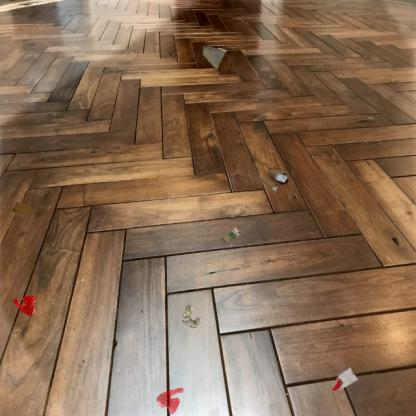dirty: (258, 165, 290, 194), (329, 366, 358, 392), (179, 303, 203, 331), (201, 44, 227, 69), (9, 200, 37, 219), (219, 226, 242, 246)
liquid: (156, 386, 184, 415), (12, 295, 38, 318)
